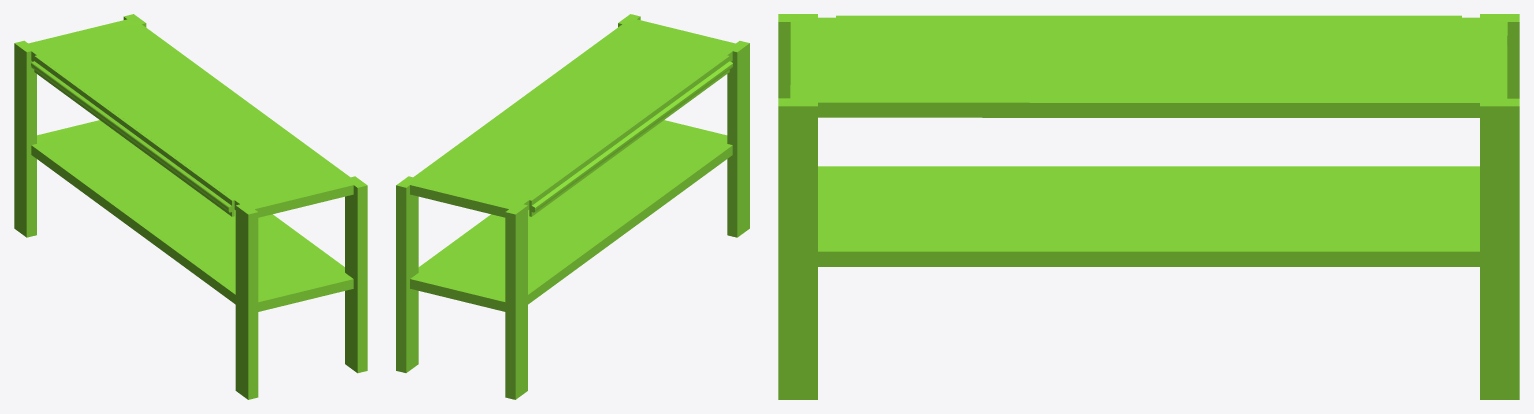
File: shelve_middle.fbx
3 renders of one model, left to right at view 1: azimuth 30°, elevation 25°; view 2: azimuth 150°, elevation 25°; view 3: azimuth 270°, elevation 25°, orthographic. The views are drawn at different scales.
Visible parts, largest first — view 1: shelve_midle_1_low; view 2: shelve_midle_1_low; view 3: shelve_midle_1_low.
Boxes of the visible parts, x1=… form: shelve_midle_1_low: x1=14, y1=14, x2=367, y2=399; shelve_midle_1_low: x1=396, y1=14, x2=749, y2=399; shelve_midle_1_low: x1=778, y1=14, x2=1519, y2=399.
Bounding box in the file's own units: 50.11 × 73.41 × 168.
